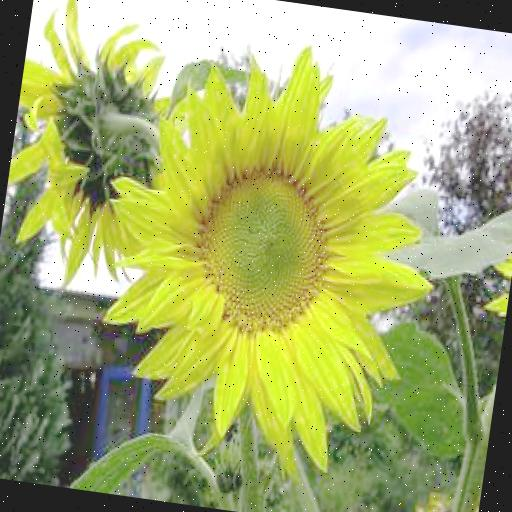sunflower: (81, 20, 459, 477)
